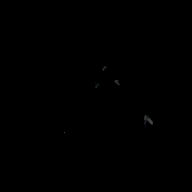v: (91, 63, 120, 88)
